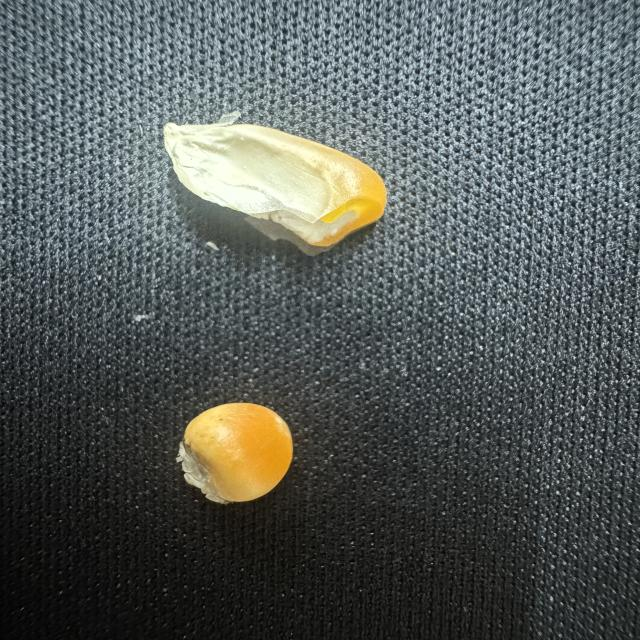Bad-Seed: (156, 112, 390, 261), (171, 398, 304, 506)
